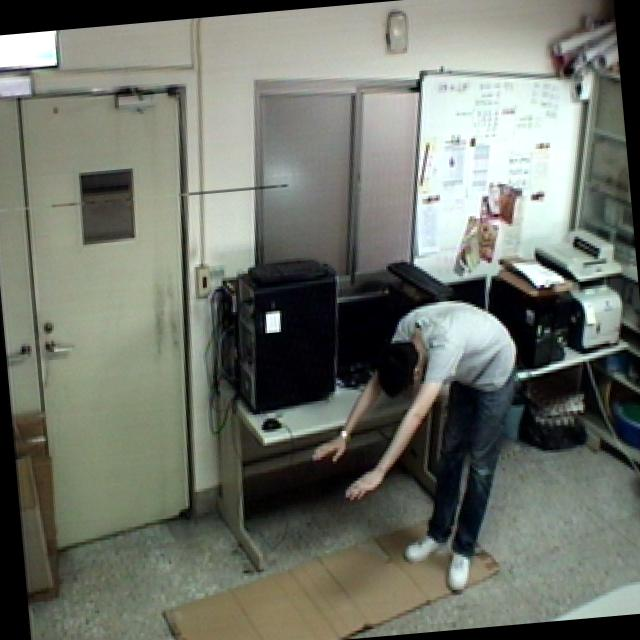bend: (292, 286, 544, 615)
